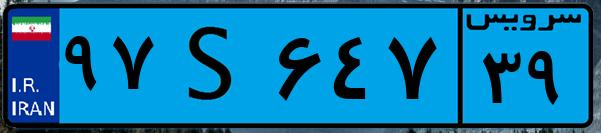3: (475, 38, 525, 113)
4: (330, 28, 385, 110)
6: (270, 28, 330, 110)
7: (385, 28, 445, 110), (110, 28, 158, 98)
9: (57, 26, 110, 100), (525, 38, 570, 115)
S: (158, 12, 270, 120)
